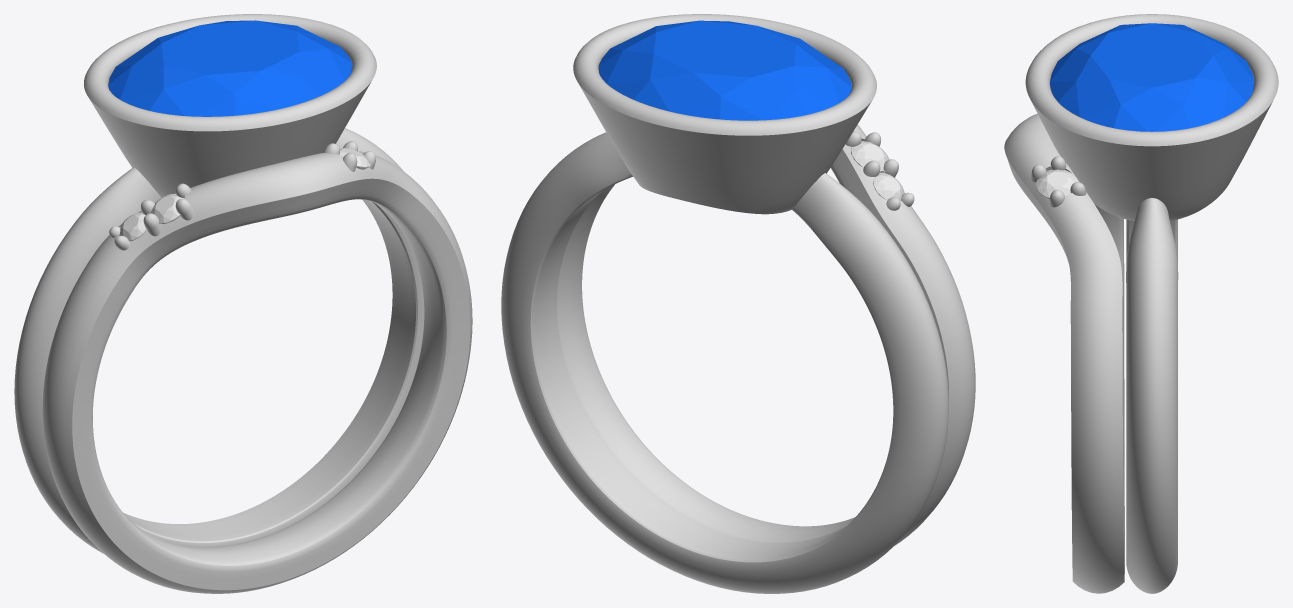
Rendered from KatrinaPTflatV2_blender.glb.
3 views of the same model, side by side, from view 1: azimuth 30°, elevation 25°; view 2: azimuth 150°, elevation 25°; view 3: azimuth 270°, elevation 25° (orthographic). The views are drawn at different scales.
Parts seen in each view (by area): view 1: V2 Katrina PT for 3d model, V2 Katrina sapph for 3d model, V2 Katrina dia for 3d model; view 2: V2 Katrina PT for 3d model, V2 Katrina sapph for 3d model, V2 Katrina dia for 3d model, V2 Katrina dia for 3d model.001; view 3: V2 Katrina PT for 3d model, V2 Katrina sapph for 3d model, V2 Katrina dia for 3d model.002.
Boxes of the visible parts, x1,y1,x2,y2 form: V2 Katrina PT for 3d model: (14,14,472,593); V2 Katrina sapph for 3d model: (108,20,352,116); V2 Katrina dia for 3d model: (151,193,185,223); V2 Katrina PT for 3d model: (501,14,975,593); V2 Katrina sapph for 3d model: (598,20,851,120); V2 Katrina dia for 3d model: (851,141,889,170); V2 Katrina dia for 3d model.001: (873,173,904,201); V2 Katrina PT for 3d model: (1004,14,1278,593); V2 Katrina sapph for 3d model: (1050,23,1254,131); V2 Katrina dia for 3d model.002: (1036,169,1078,198).
Bounding box in the file's own units: 20.81 × 24.13 × 11.63.
